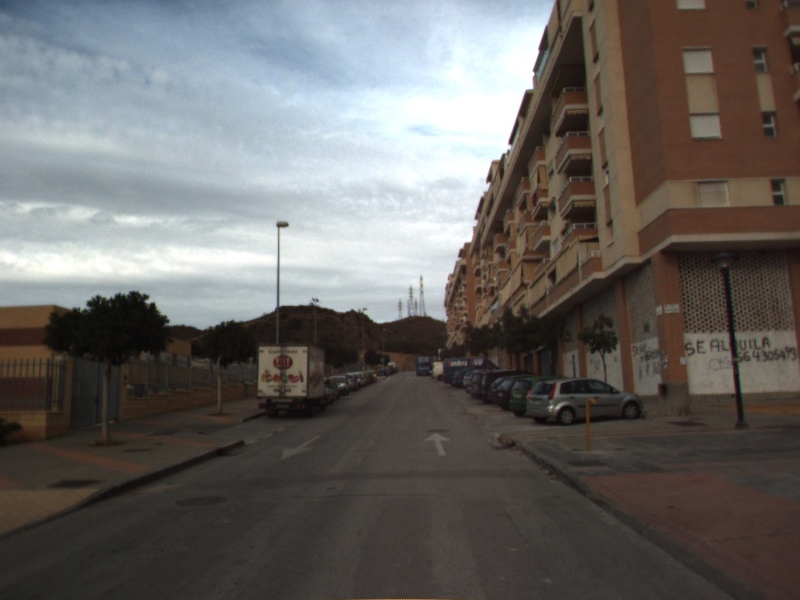STRAIGHT: (422, 430, 453, 458)
